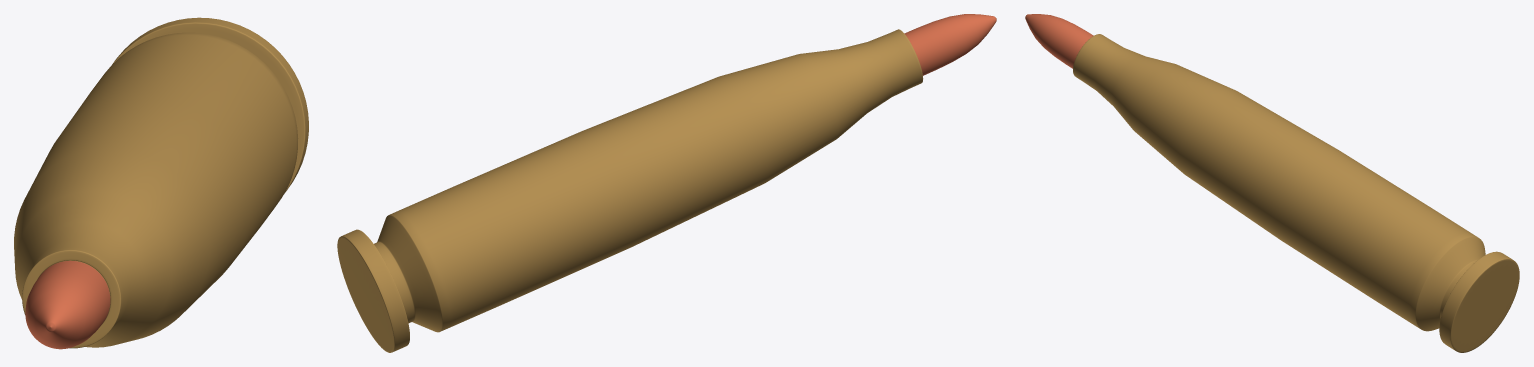
Rendered from Bullet.fbx.
3 views of the same model, side by side, from view 1: azimuth 30°, elevation 25°; view 2: azimuth 150°, elevation 25°; view 3: azimuth 270°, elevation 25° (orthographic). The views are drawn at different scales.
Parts seen in each view (by area): view 1: Cylinder; view 2: Cylinder; view 3: Cylinder.
Boxes of the visible parts, x1=… form: Cylinder: x1=14, y1=17, x2=308, y2=349; Cylinder: x1=337, y1=14, x2=996, y2=352; Cylinder: x1=1025, y1=14, x2=1519, y2=352.
Bounding box in the file's own units: 728 × 394 × 906.
